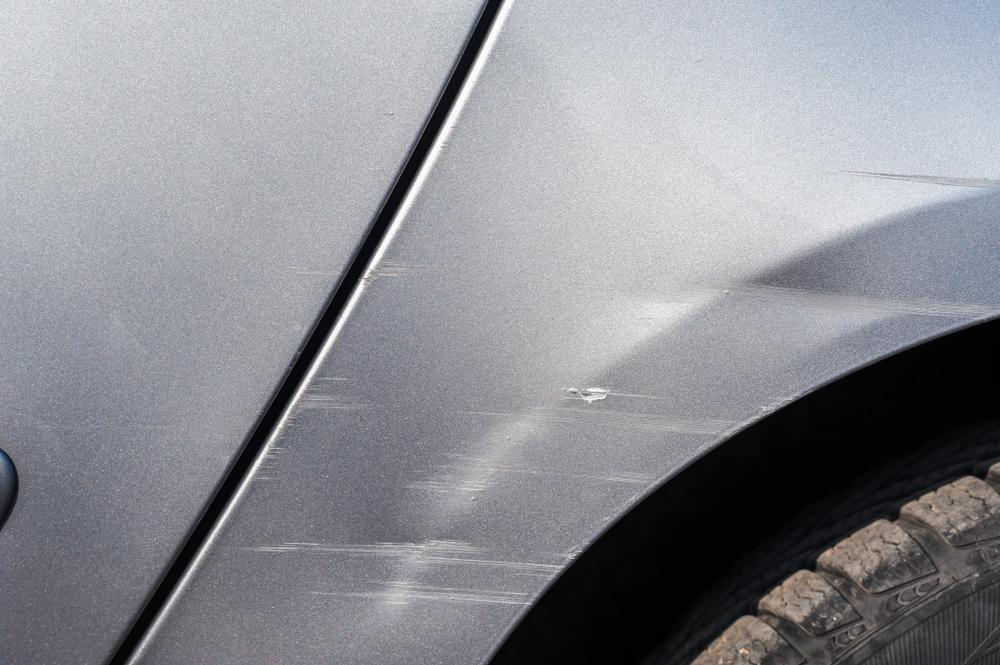scratch: (245, 252, 798, 633), (628, 275, 1000, 322), (840, 169, 1000, 185)
